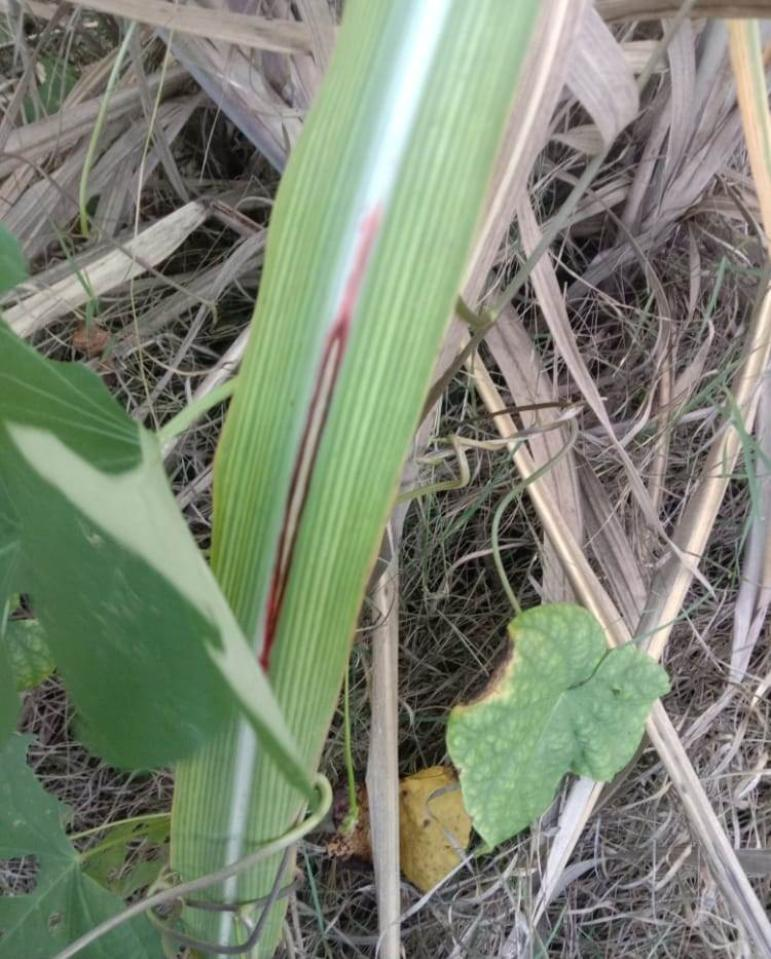RedRot: (258, 198, 386, 676)
